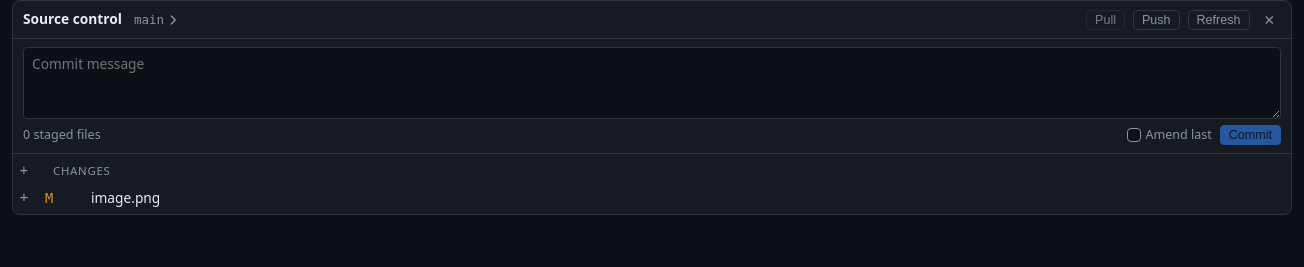
Test: opening a file to its diff › says why there is no diff rather than showing an empty row
Click the button "M image.png" at {"x": 126, "y": 198}, box x1=35 y1=185 x2=1291 y2=210
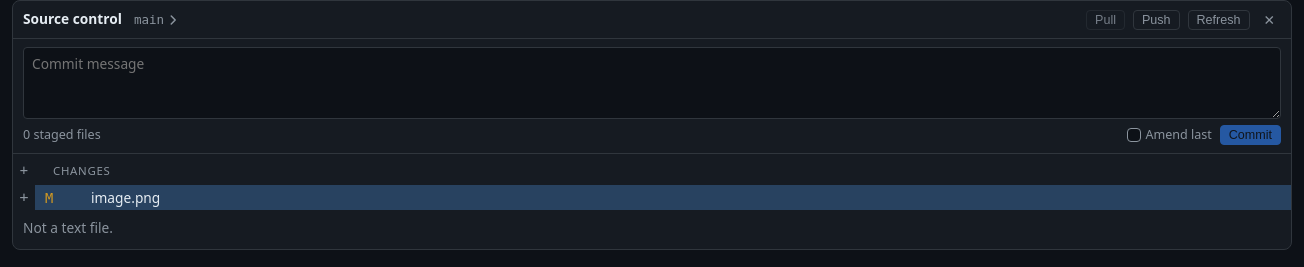
Result: the text "Not a text file." is shown at x1=23 y1=218 x2=113 y2=237
